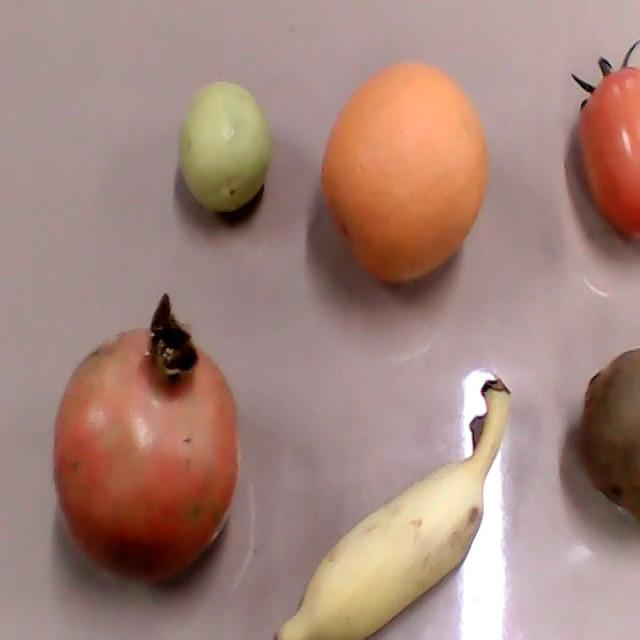kiwi: (580, 349, 639, 521)
lemon: (178, 81, 268, 214)
orange: (321, 61, 485, 279)
pomegranate: (54, 291, 238, 585)
tomato: (572, 42, 639, 242)
